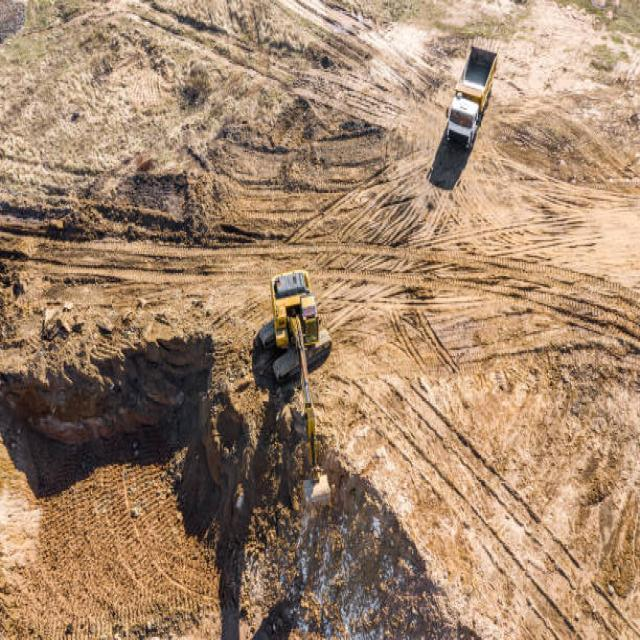excavator: (258, 273, 333, 502)
